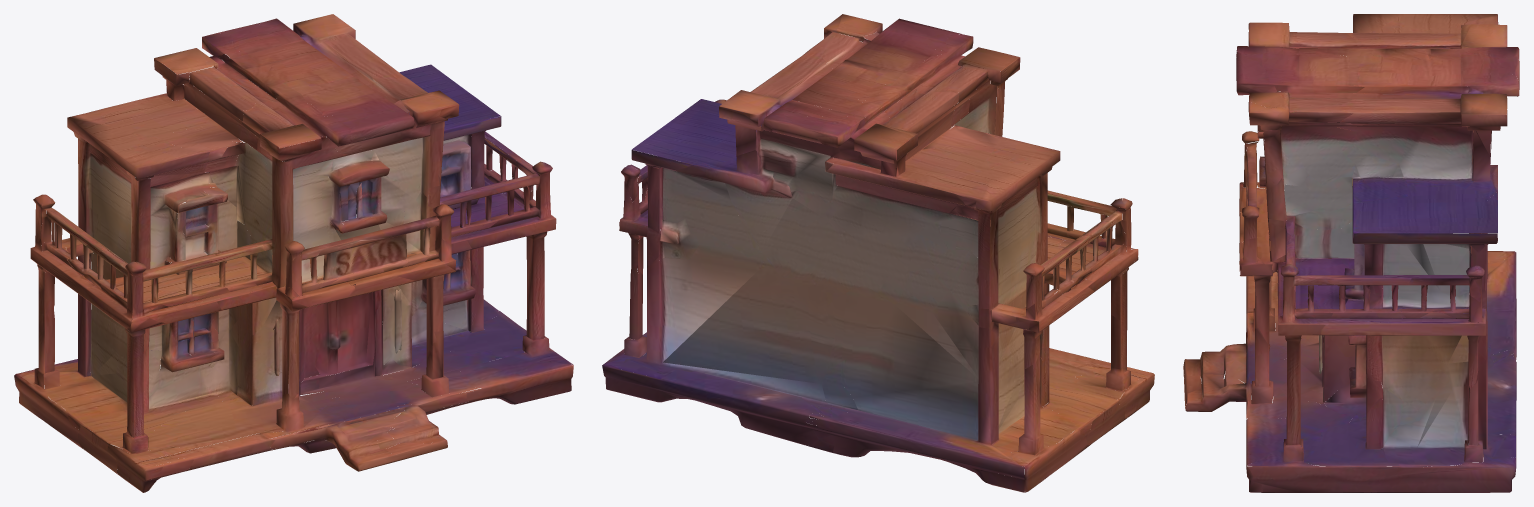
Rendered from saloon.glb.
3 views of the same model, side by side, from view 1: azimuth 30°, elevation 25°; view 2: azimuth 150°, elevation 25°; view 3: azimuth 270°, elevation 25° (orthographic). The views are drawn at different scales.
Visible parts, largest first — view 1: tripo_node_f5cefcbf-9f8f-420c-8a0b-2cbed8230807; view 2: tripo_node_f5cefcbf-9f8f-420c-8a0b-2cbed8230807; view 3: tripo_node_f5cefcbf-9f8f-420c-8a0b-2cbed8230807.
Boxes of the visible parts, x1,y1,x2,y2 form: tripo_node_f5cefcbf-9f8f-420c-8a0b-2cbed8230807: (14, 14, 573, 492); tripo_node_f5cefcbf-9f8f-420c-8a0b-2cbed8230807: (602, 14, 1154, 492); tripo_node_f5cefcbf-9f8f-420c-8a0b-2cbed8230807: (1183, 14, 1519, 492).
Bounding box in the file's own units: 1 × 0.7283 × 0.6589.
1 material, 1 textured.
